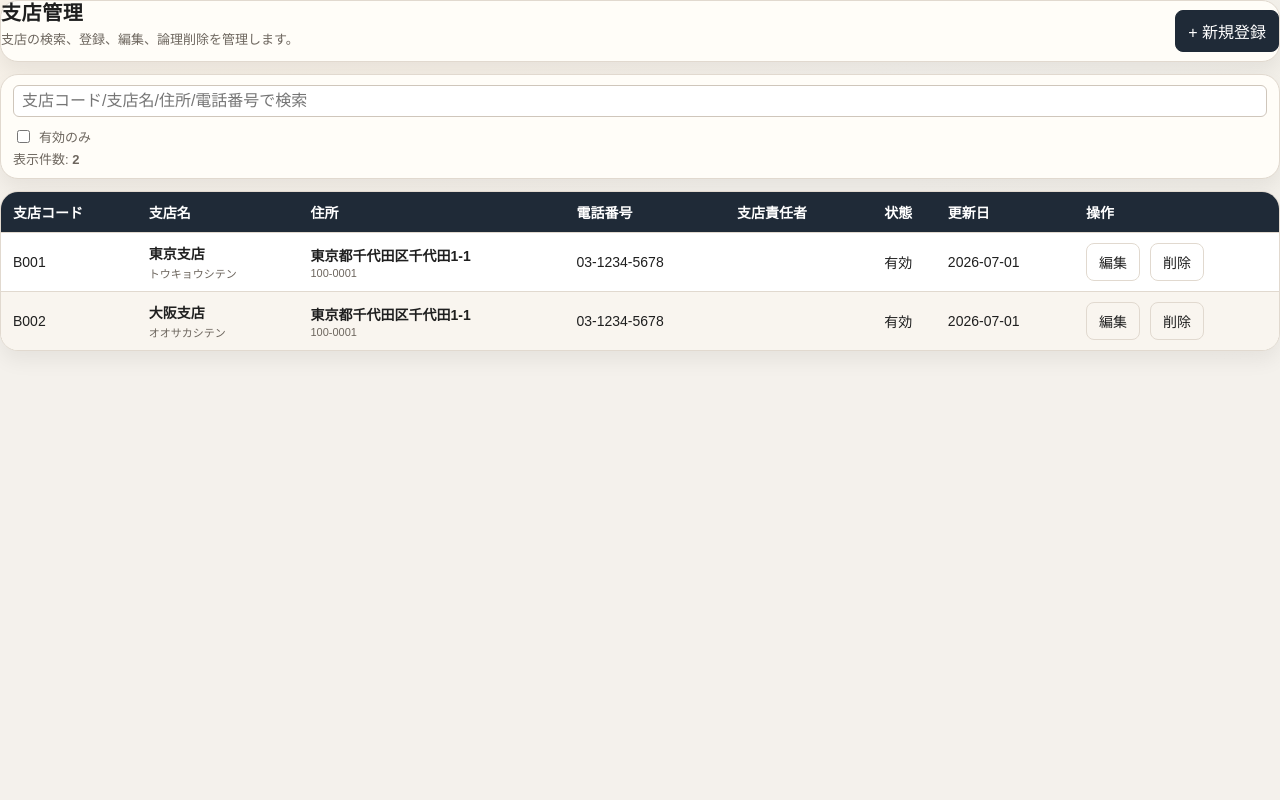
支店管理画面 › 支店登録ができる
Expected: the text "東京支店" is shown, [149,246,205,262]
Click the button "+ 新規登録": (1227, 31) [1175,10,1279,52]
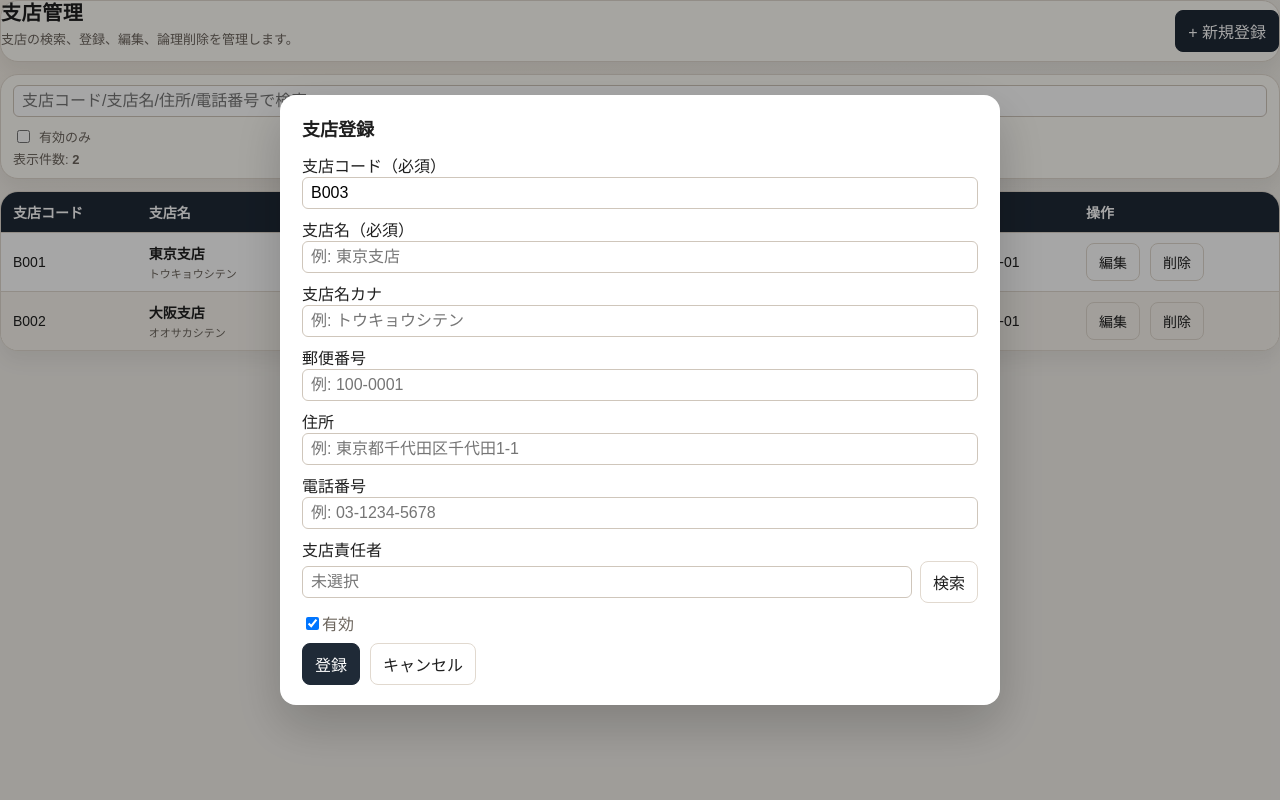
In the field with placeholder "例: 東京支店": (640, 257) [302,241,978,273], type "福岡支店"
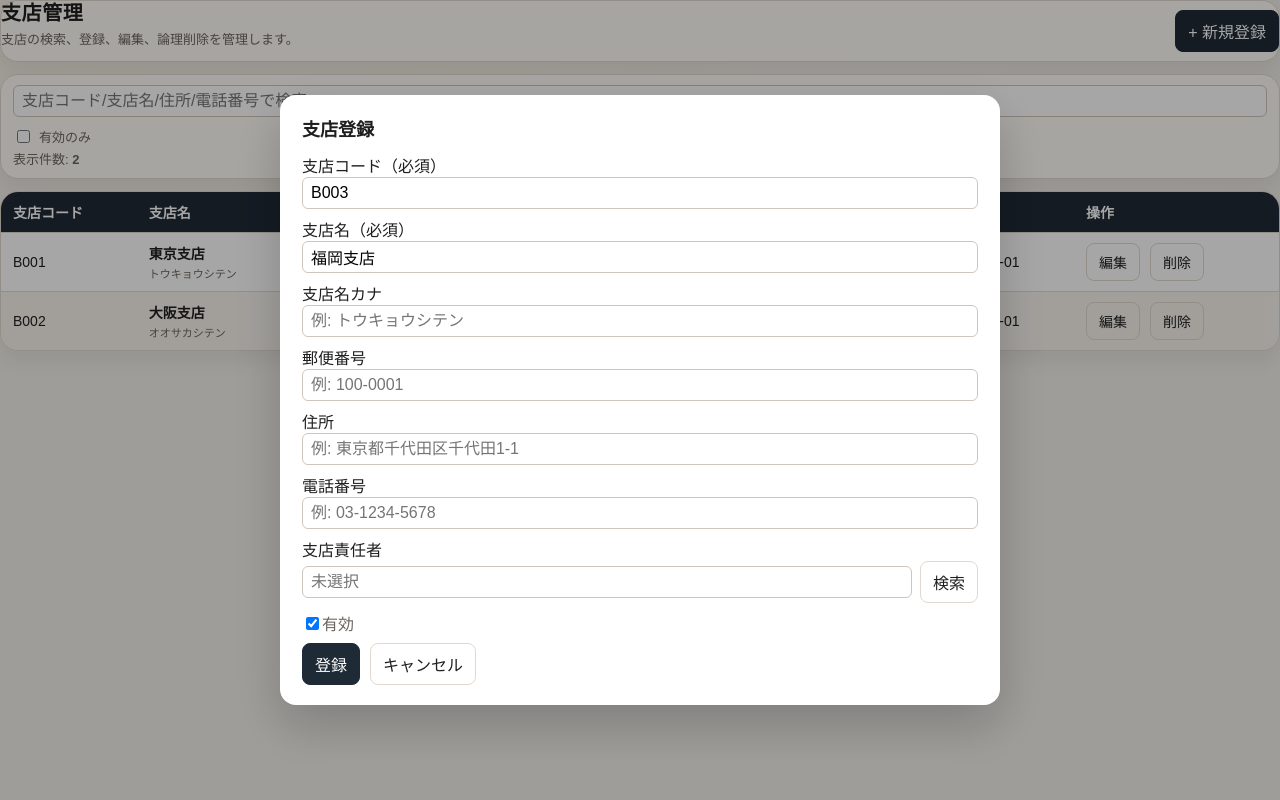
In the field with placeholder "例: トウキョウシテン": (640, 321) [302,305,978,337], type "フクオカシテン"
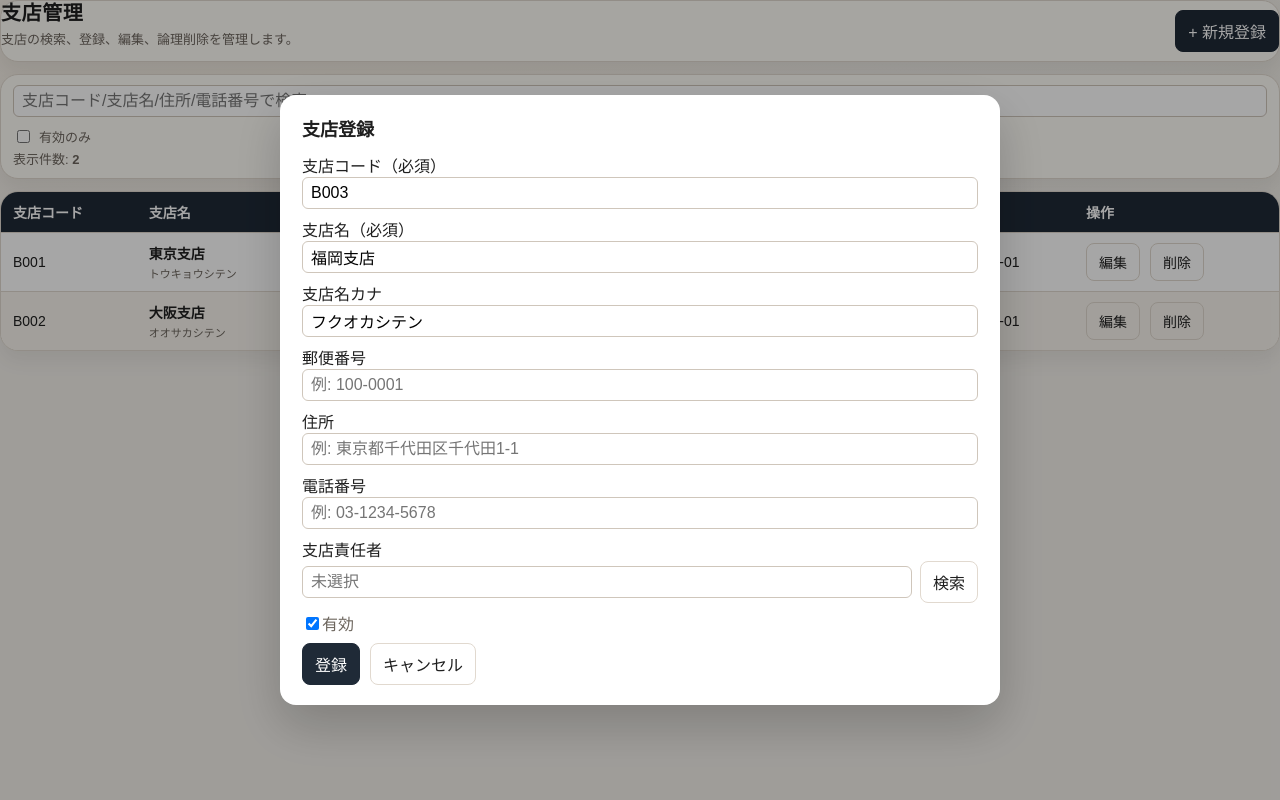
Click the button "登録": (331, 664) [302,643,360,685]
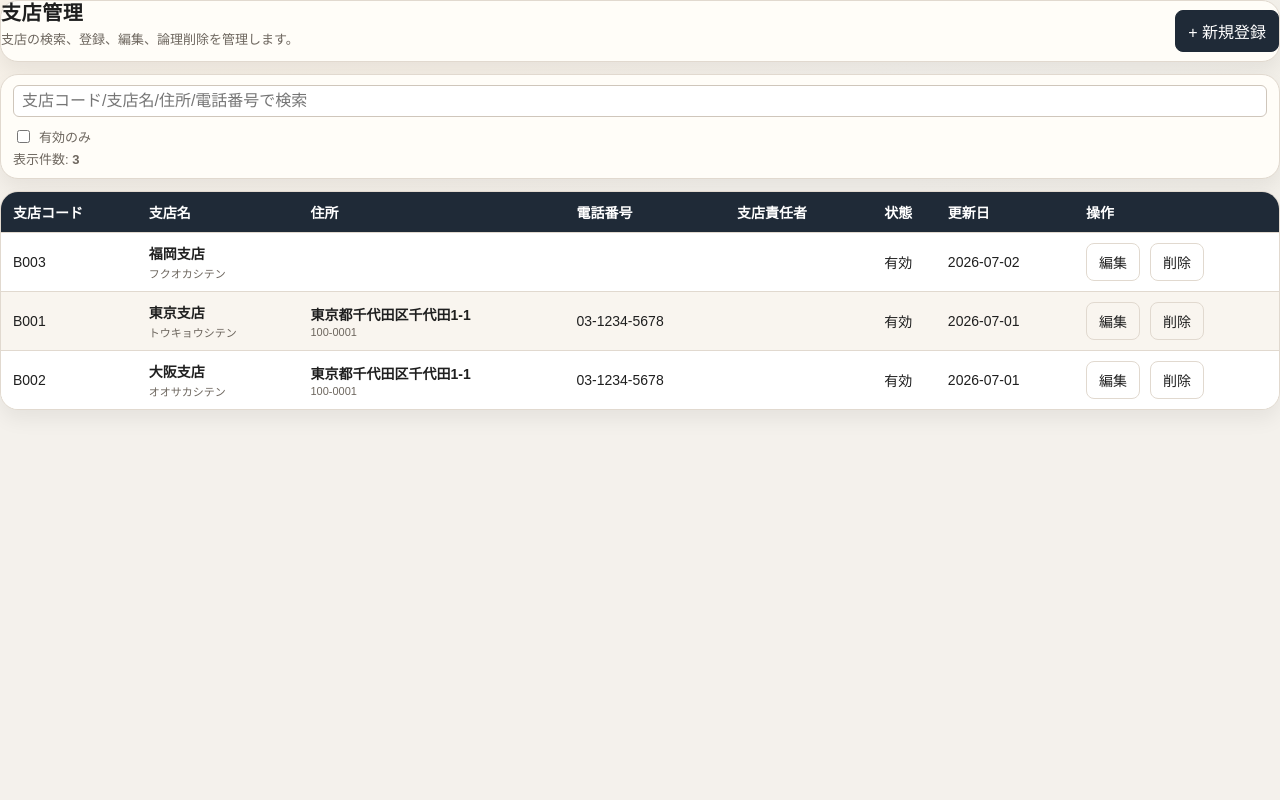
Expected: the text "福岡支店" is shown, [149,246,205,262]
